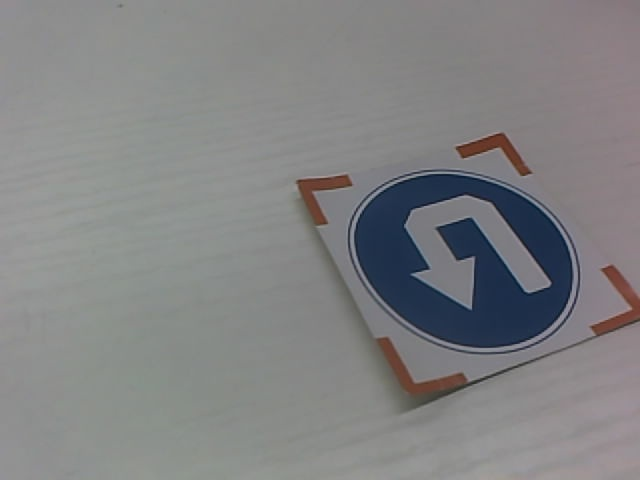turn_around: (289, 134, 640, 408)
